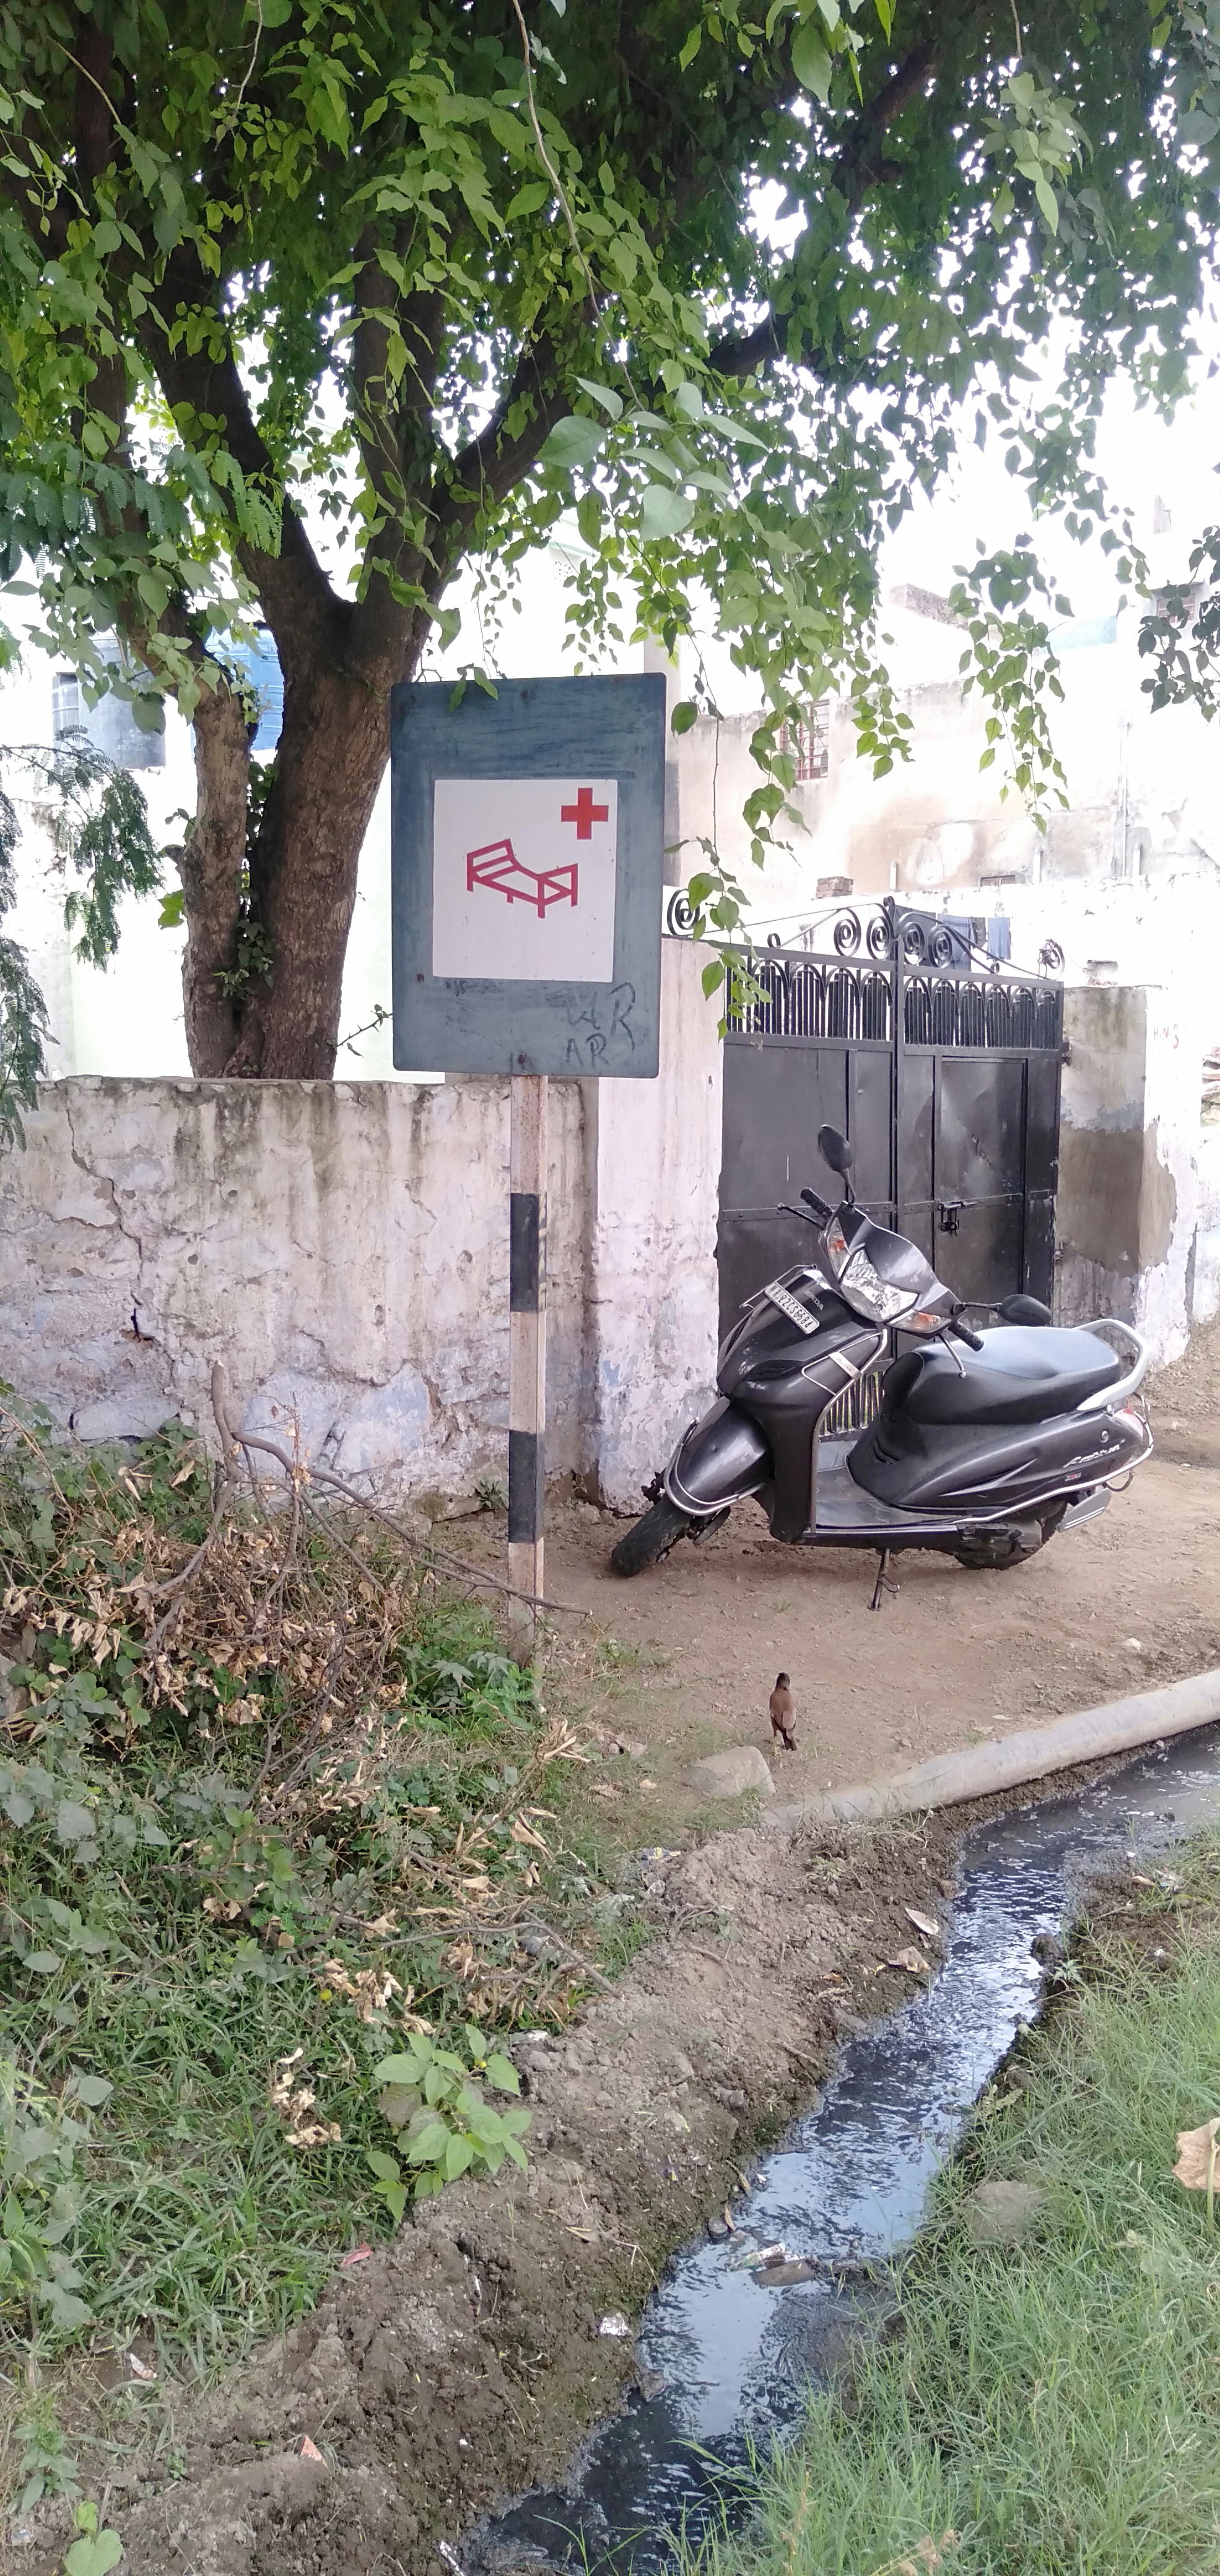traffic_sign: (381, 675, 658, 1089)
